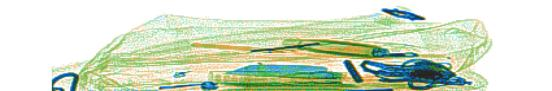knife: (226, 62, 344, 81)
